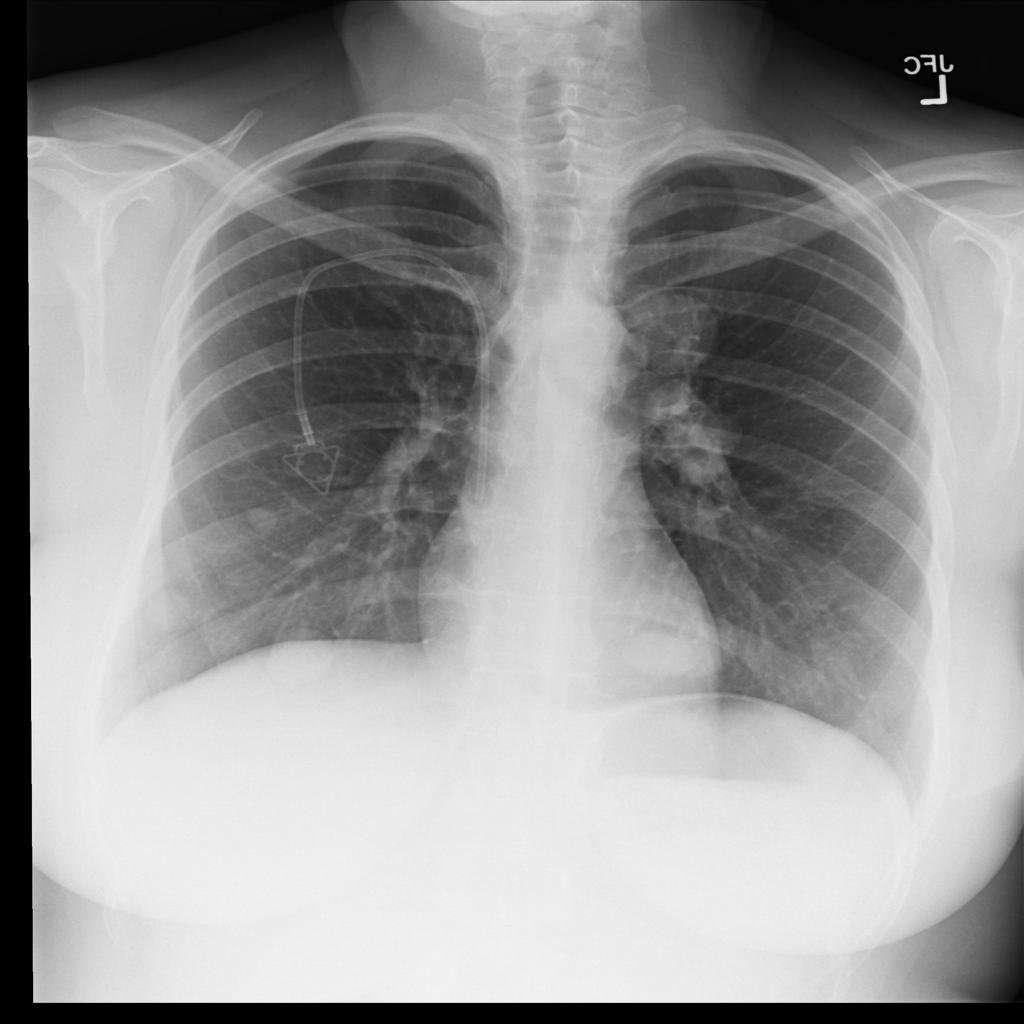nodule: (606, 272, 731, 376), (603, 606, 724, 696), (255, 614, 339, 688), (129, 574, 209, 643), (233, 494, 290, 542)
